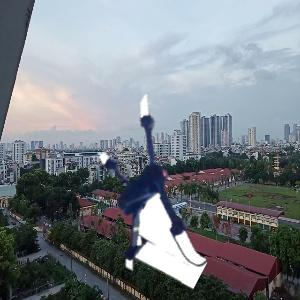drone: (66, 100, 238, 272)
